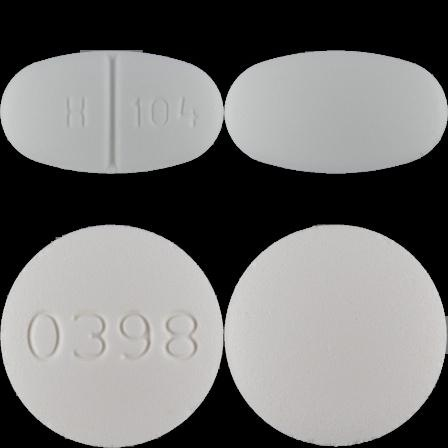10544-947: (0, 0, 224, 224)
